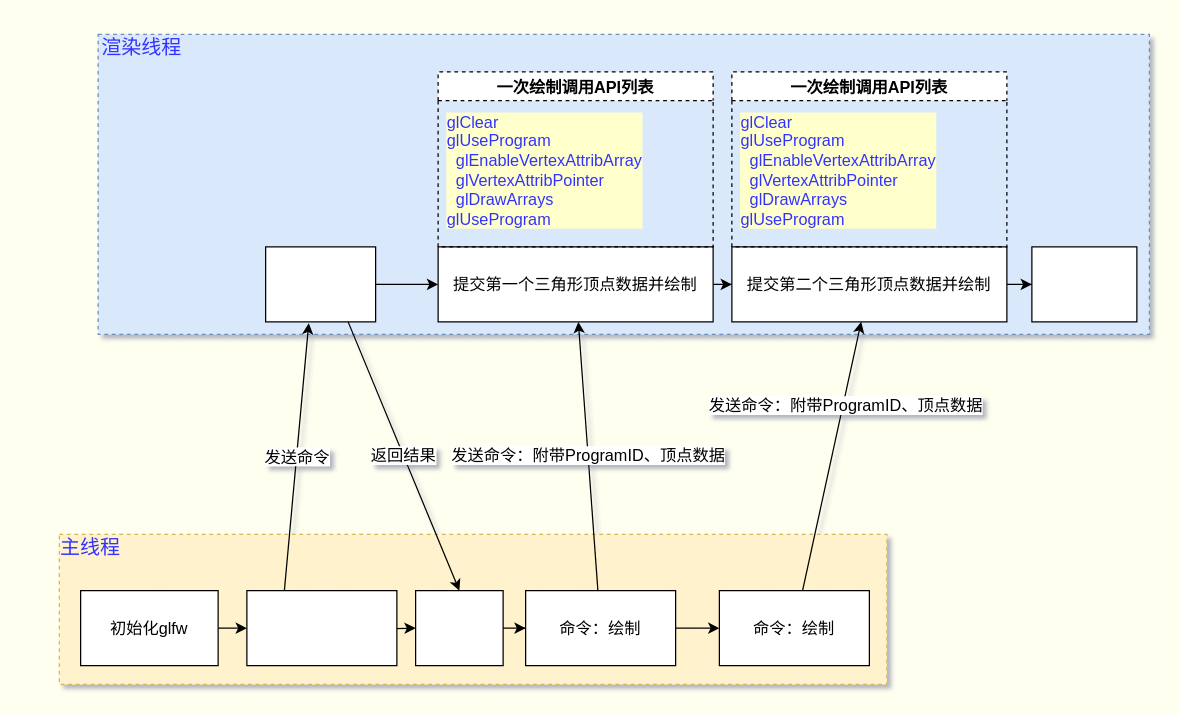
This 1179x714 diagram has some shape labels left out. Each missing label, with the box of its shape:
交换缓冲区: (1031, 246, 1137, 322)
命令：编译Shader: (246, 589, 397, 666)
编译Shader: (264, 246, 376, 322)
编译成功: (414, 589, 503, 666)
